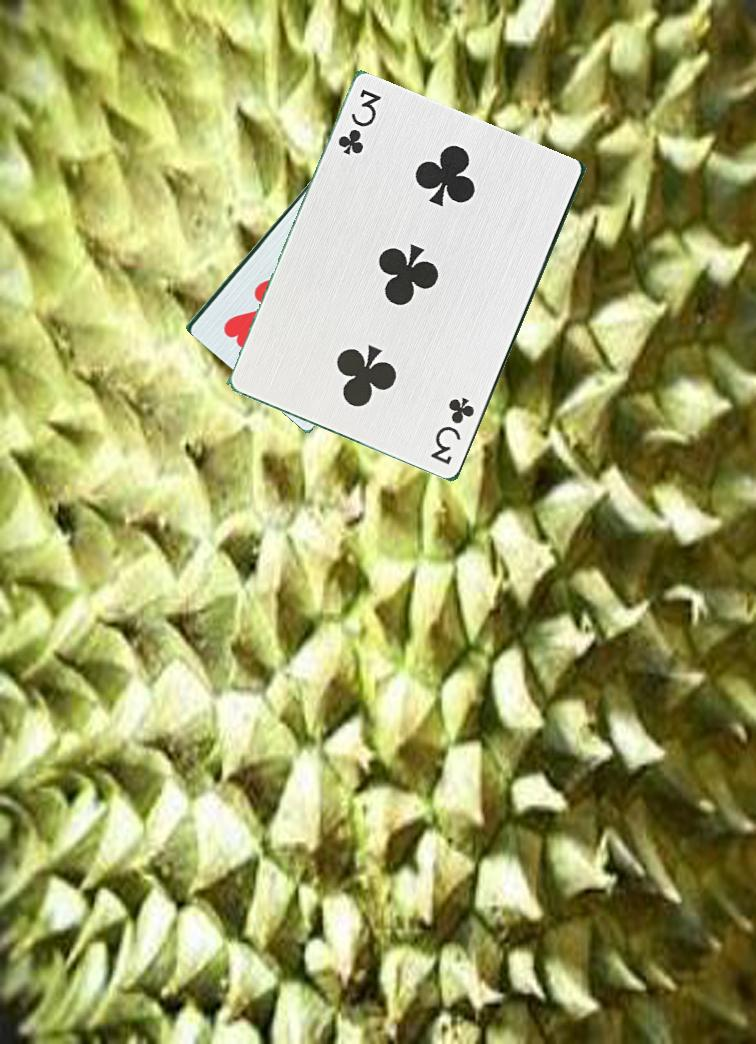3c: (427, 384, 478, 468), (334, 86, 385, 168)
